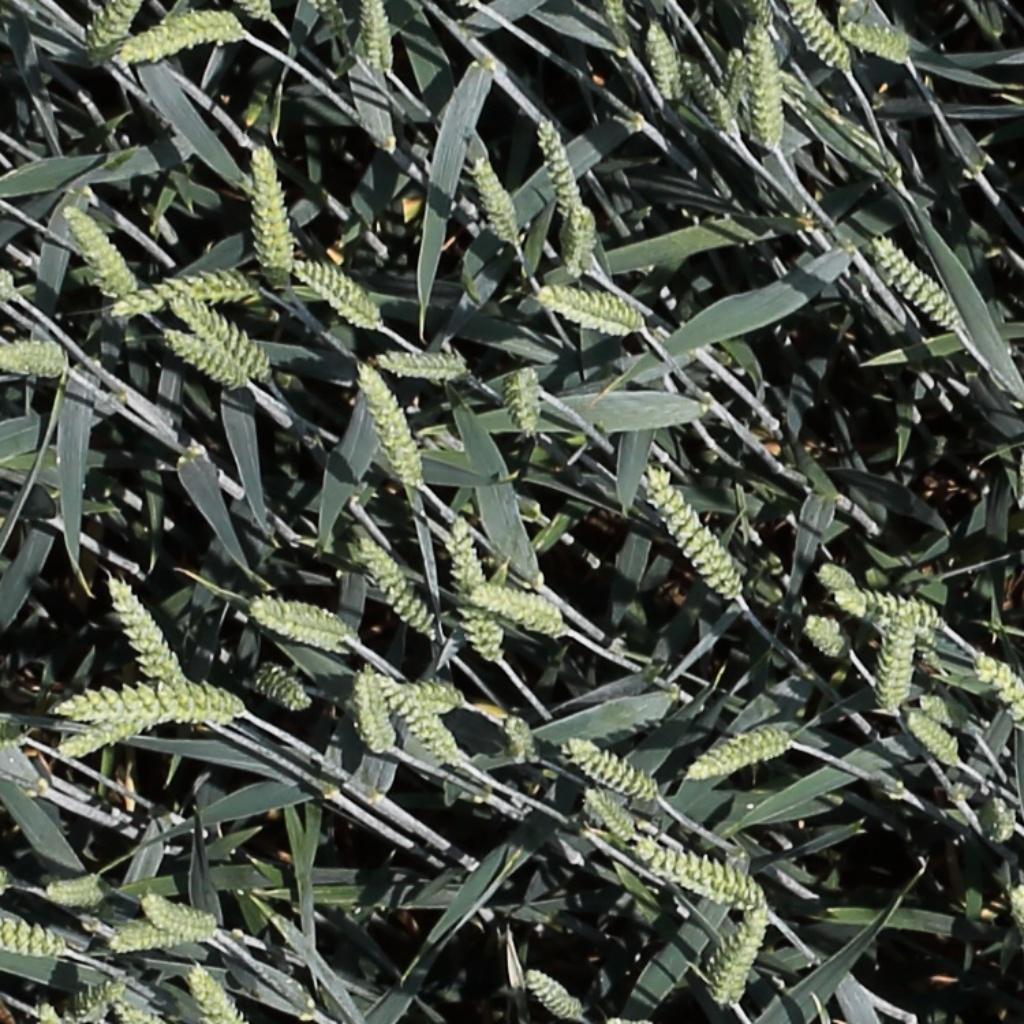0-0: (644, 465, 748, 602), (102, 570, 184, 692), (354, 357, 427, 491), (354, 532, 439, 643), (873, 233, 963, 330), (174, 293, 273, 378), (637, 843, 764, 909), (447, 516, 502, 666), (60, 197, 137, 299), (376, 681, 465, 768), (124, 0, 243, 57), (112, 277, 253, 322), (714, 903, 772, 1008), (566, 738, 659, 802), (294, 259, 382, 324), (251, 140, 292, 279), (536, 110, 587, 221), (678, 54, 744, 139), (471, 148, 524, 248), (690, 731, 797, 778), (886, 605, 930, 719), (791, 1, 857, 76), (750, 17, 785, 157), (163, 327, 241, 386), (539, 286, 645, 329), (473, 587, 569, 634), (377, 346, 470, 394), (972, 652, 1024, 734), (839, 589, 942, 628), (251, 603, 348, 644), (645, 16, 688, 107), (0, 895, 65, 955), (184, 958, 241, 1024), (356, 666, 395, 759), (57, 718, 143, 760), (584, 786, 641, 849), (905, 709, 963, 770), (524, 966, 585, 1021), (140, 897, 217, 935), (86, 0, 137, 57), (103, 981, 165, 1024), (502, 707, 544, 770), (64, 981, 123, 1024), (252, 669, 311, 711), (512, 359, 542, 441), (364, 0, 394, 79), (906, 619, 949, 673), (567, 195, 593, 283), (0, 337, 67, 371), (845, 25, 914, 58), (804, 615, 853, 659), (724, 40, 752, 113), (985, 793, 1014, 853), (603, 0, 636, 51), (311, 0, 353, 40), (111, 931, 195, 950), (819, 563, 861, 595), (748, 0, 783, 38), (246, 0, 278, 32), (45, 886, 105, 901), (0, 270, 15, 293), (0, 735, 19, 752)
